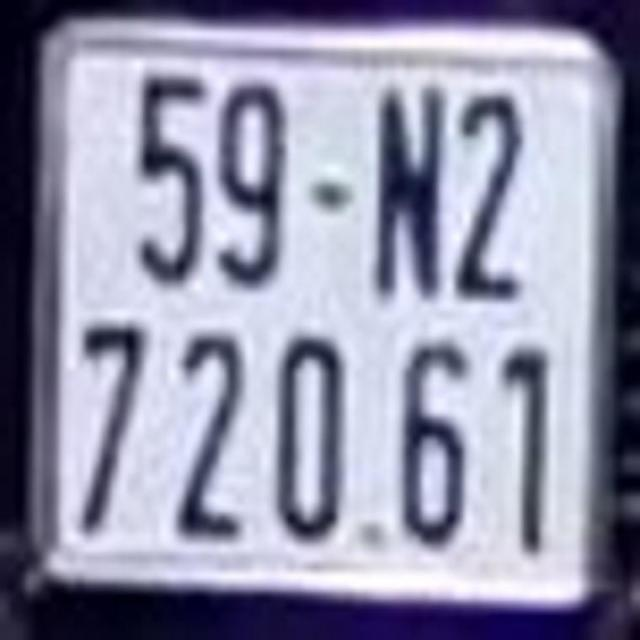0: (275, 332, 346, 542)
1: (495, 338, 551, 557)
2: (172, 326, 257, 542), (458, 91, 520, 296)
5: (134, 67, 208, 279)
6: (397, 338, 480, 549)
7: (80, 324, 142, 538)
9: (218, 83, 288, 288)
N: (376, 88, 449, 298)
